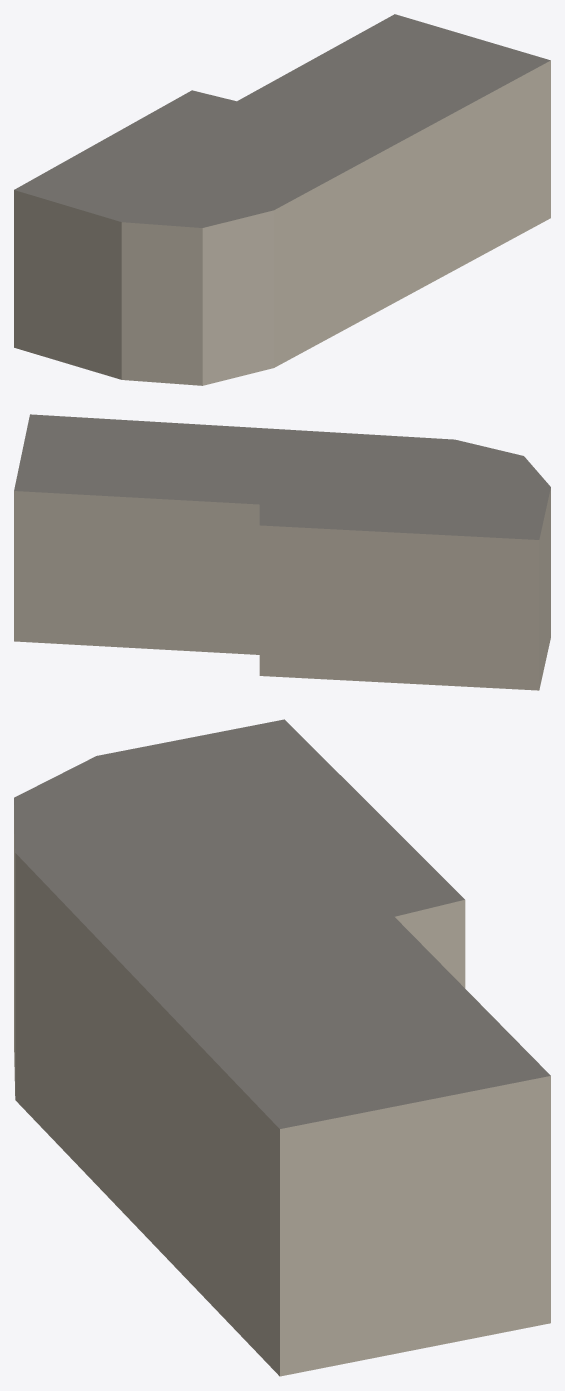
3 views of the same model, one above another, from view 1: azimuth 30°, elevation 25°; view 2: azimuth 150°, elevation 25°; view 3: azimuth 270°, elevation 25° (orthographic). The views are drawn at different scales.
Parts seen in each view (by area): view 1: HP-w380340005; view 2: HP-w380340005; view 3: HP-w380340005.
Part boxes in pixels (bbox=[...]): HP-w380340005: bbox=[14, 14, 550, 385]; HP-w380340005: bbox=[14, 414, 550, 690]; HP-w380340005: bbox=[14, 719, 550, 1376].
Size of the model in its own units: 42.62 by 12 by 23.6.
